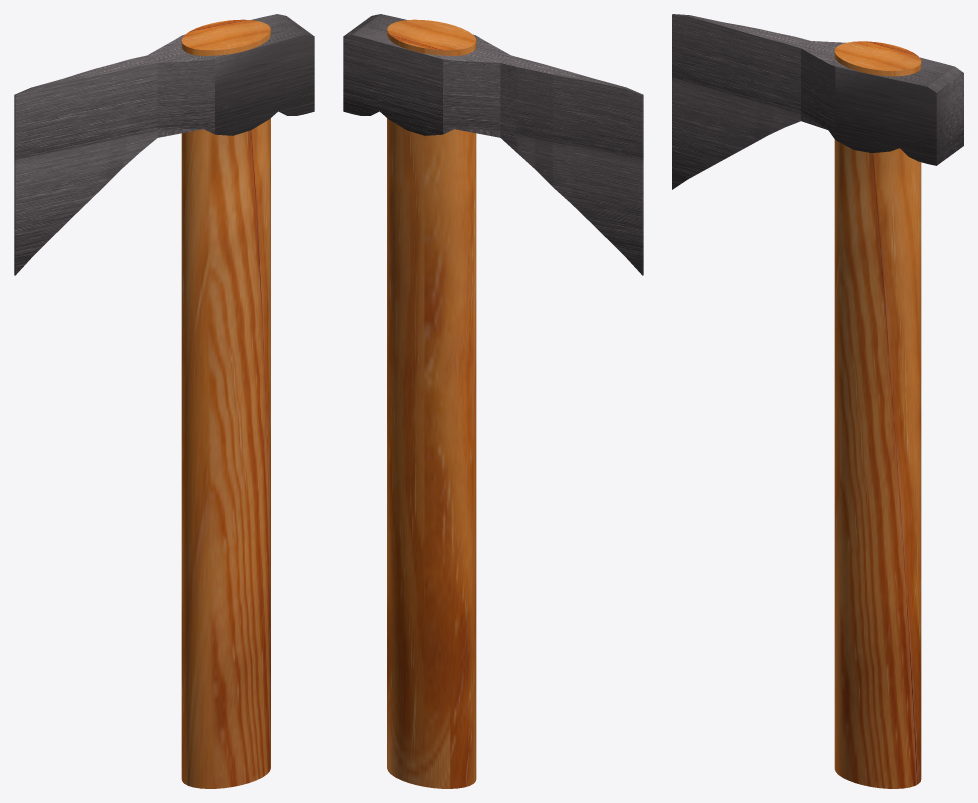
Rendered from Axe2.gltf.
The picture shows the model from 3 angles, left to right: view 1: azimuth 30°, elevation 25°; view 2: azimuth 150°, elevation 25°; view 3: azimuth 330°, elevation 25°; orthographic projection. The views are drawn at different scales.
Parts seen in each view (by area): view 1: Handle, Head; view 2: Handle, Head; view 3: Handle, Head.
Part boxes in pixels (x1,y1,x2,y2): Handle: (181, 19, 270, 788); Head: (14, 14, 314, 275); Handle: (387, 19, 476, 788); Head: (343, 14, 643, 275); Handle: (834, 41, 921, 788); Head: (672, 14, 963, 189).
Bounding box in the file's own units: 1.03 × 2.53 × 0.2035.
2 materials, 2 textured.
